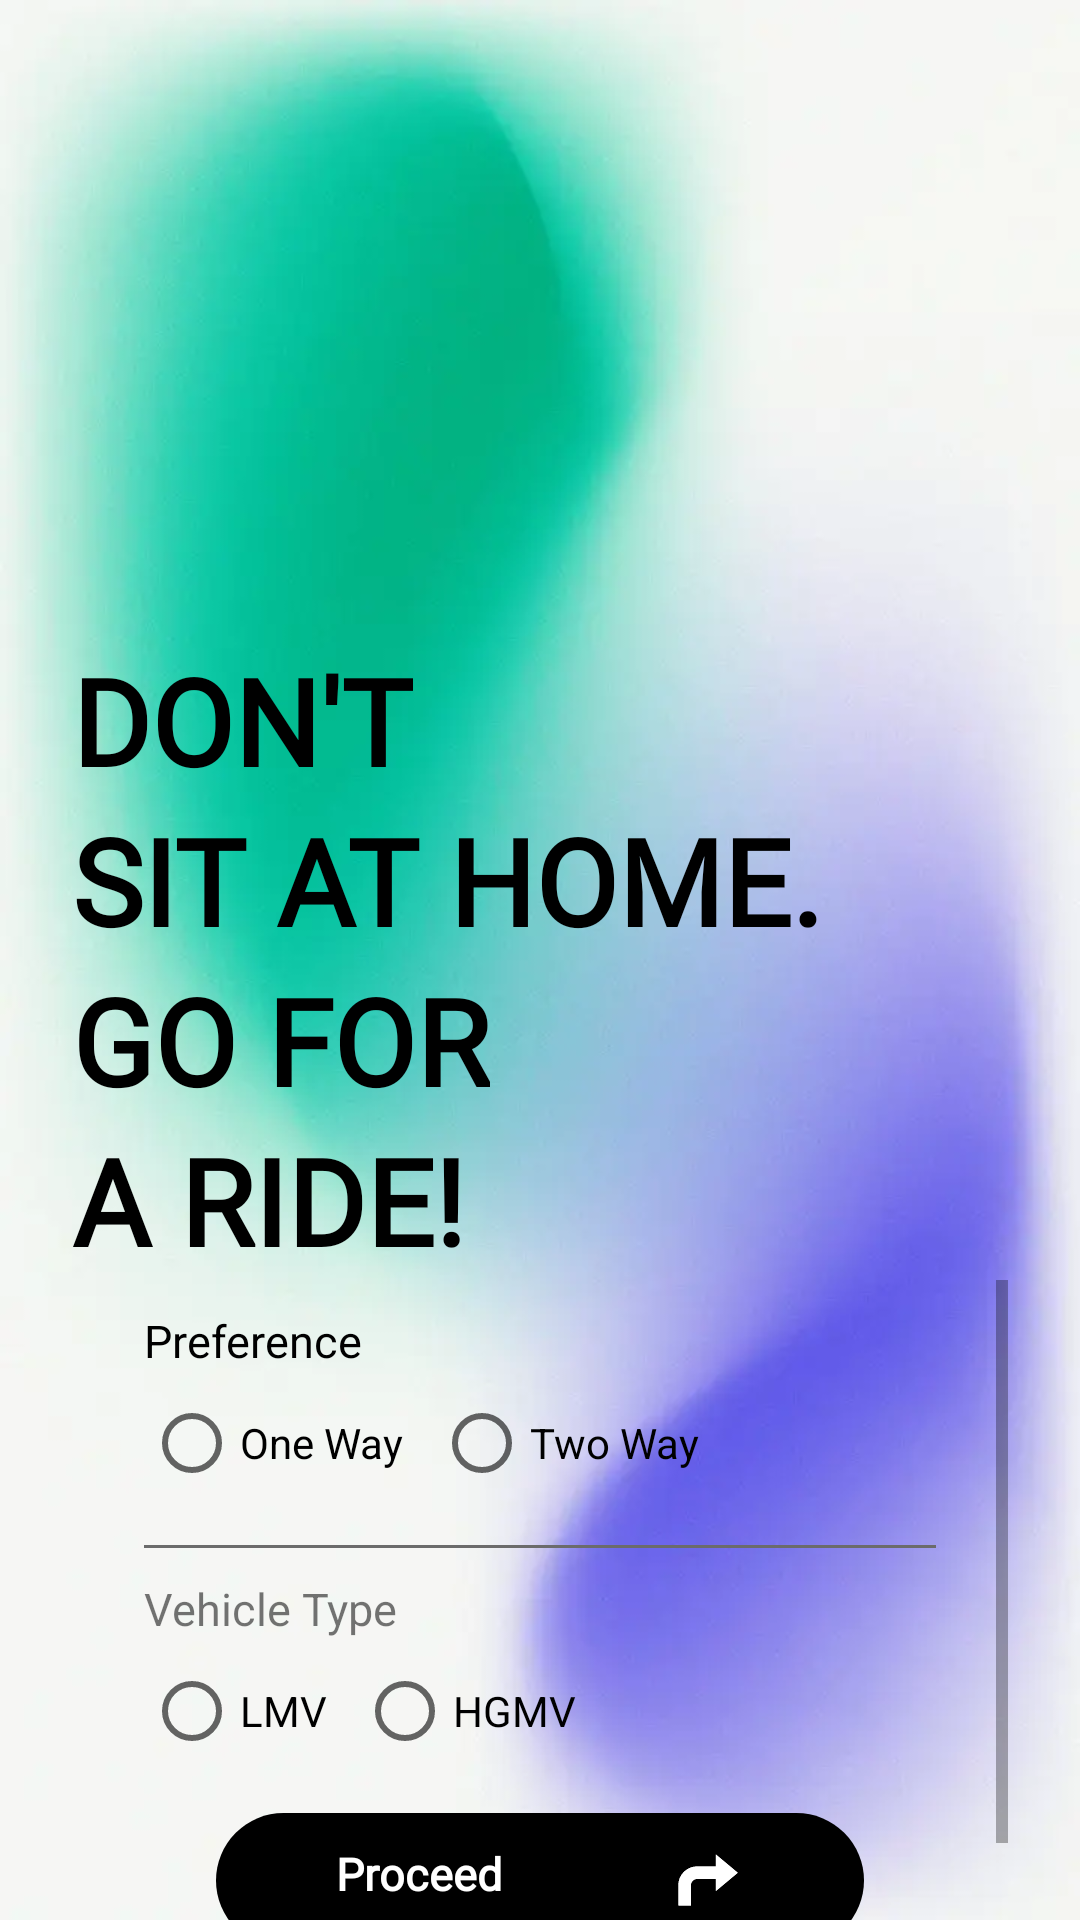

Where icons sit on this 1080w x 1920h app screen, as (x1, y1, x2, y2):
right arrow home: (678, 1854, 738, 1906)
